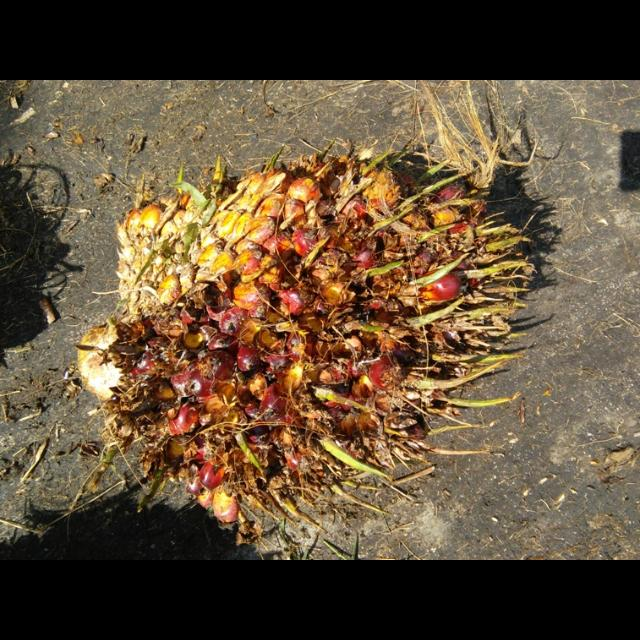Overripe: (91, 152, 515, 517)
